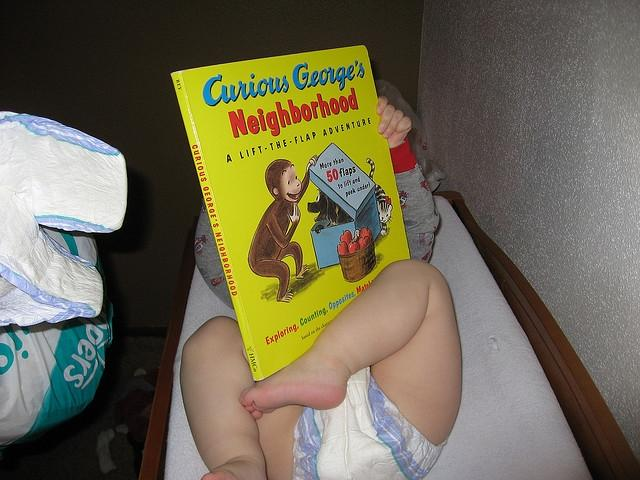apple: (358, 226, 372, 241), (340, 230, 352, 245), (348, 240, 360, 254), (359, 236, 370, 250), (337, 241, 348, 255)
